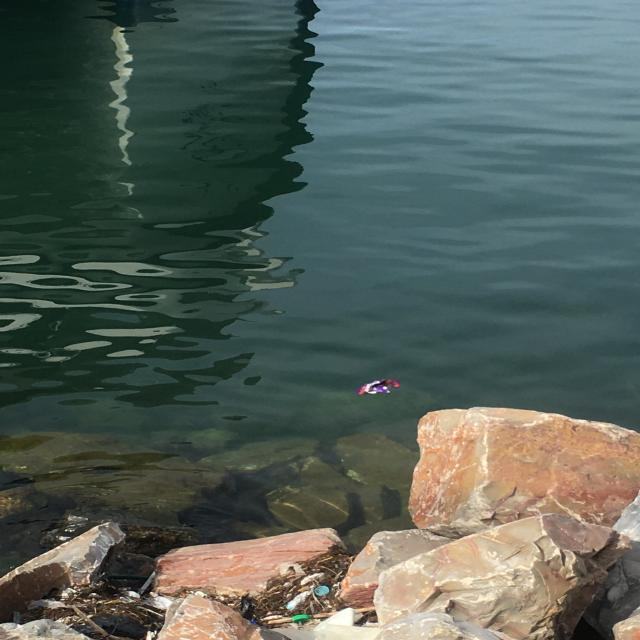Plastic packaging: (354, 373, 404, 399)
